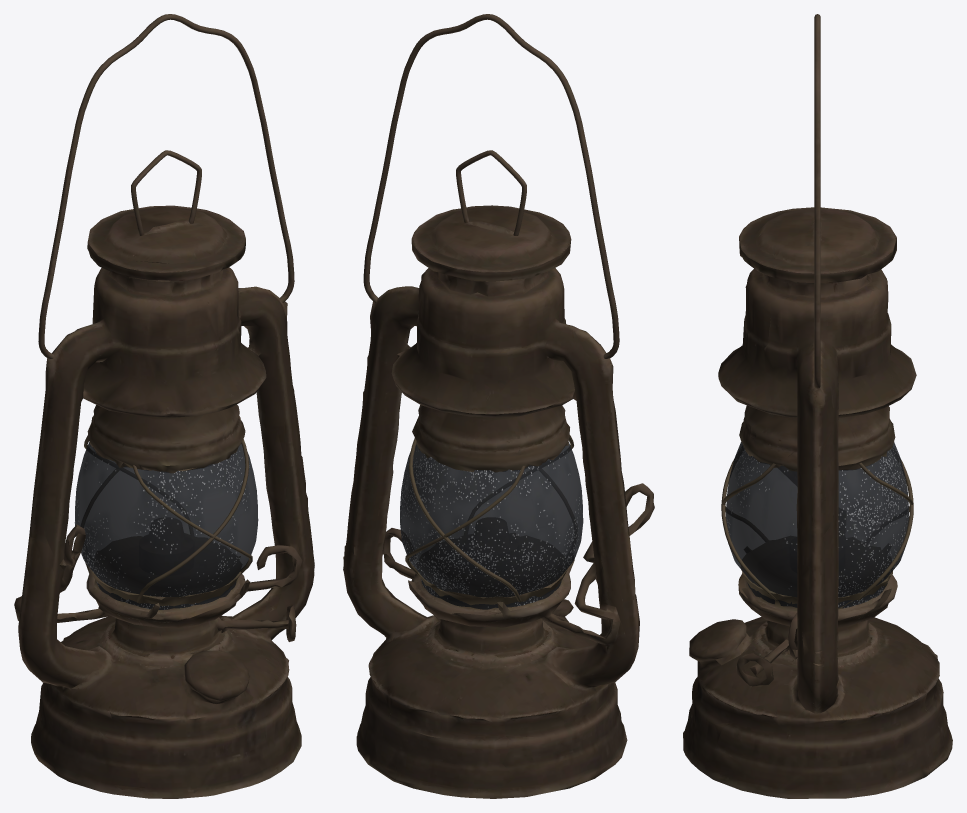
The model's file is hurricane-lantern_final.glb.
The picture shows the model from 3 angles, left to right: view 1: azimuth 30°, elevation 25°; view 2: azimuth 150°, elevation 25°; view 3: azimuth 270°, elevation 25°; orthographic projection.
Parts seen in each view (by area): view 1: SM_HurricaneLantern, SM_HurricaneLantern_Glass, SM_HurricaneLantern_Bail; view 2: SM_HurricaneLantern, SM_HurricaneLantern_Glass, SM_HurricaneLantern_Bail; view 3: SM_HurricaneLantern, SM_HurricaneLantern_Glass, SM_HurricaneLantern_Bail.
Boxes of the visible parts, x1=… form: SM_HurricaneLantern: x1=14, y1=150, x2=314, y2=798; SM_HurricaneLantern_Glass: x1=74, y1=441, x2=258, y2=609; SM_HurricaneLantern_Bail: x1=38, y1=14, x2=294, y2=358; SM_HurricaneLantern: x1=343, y1=150, x2=654, y2=798; SM_HurricaneLantern_Glass: x1=400, y1=441, x2=583, y2=609; SM_HurricaneLantern_Bail: x1=363, y1=14, x2=619, y2=358; SM_HurricaneLantern: x1=683, y1=207, x2=952, y2=798; SM_HurricaneLantern_Glass: x1=726, y1=441, x2=909, y2=608; SM_HurricaneLantern_Bail: x1=814, y1=14, x2=820, y2=388.
Bounding box in the file's own units: 0.1523 × 0.36 × 0.121.
Materials: 2 (2 with a texture image).
